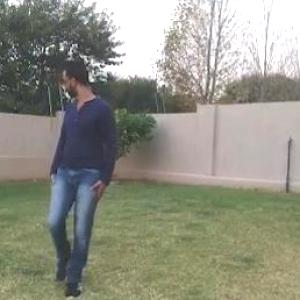follow: (49, 57, 106, 283)
